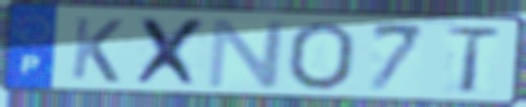7: (369, 20, 428, 96)
K: (67, 15, 126, 85)
N: (204, 17, 290, 90)
O: (284, 20, 359, 93)
T: (442, 25, 504, 96)
X: (132, 14, 212, 89)
